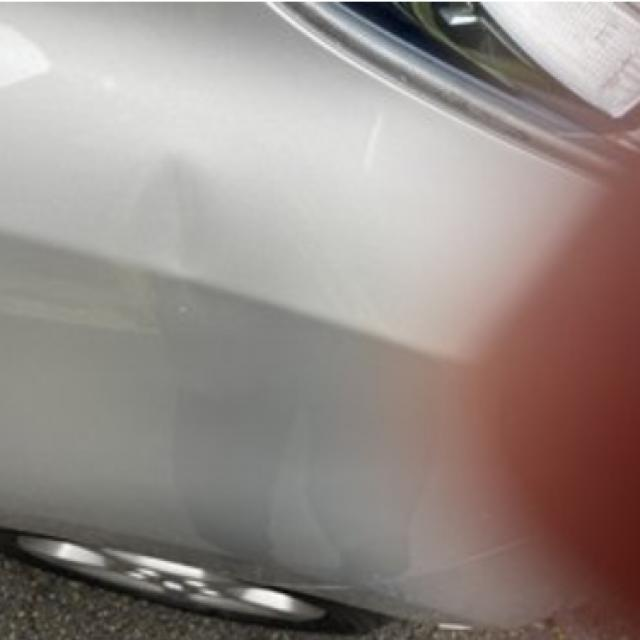dents: (99, 148, 226, 266)
